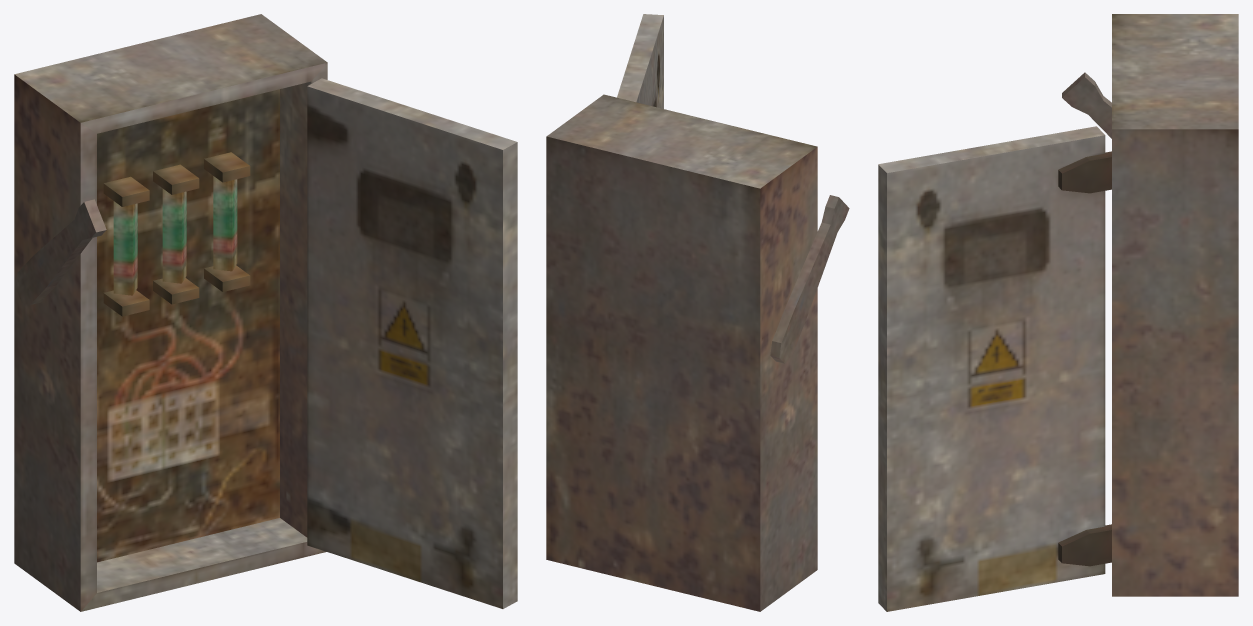
File: fusebox.fbx
3 views of the same model, side by side, from view 1: azimuth 30°, elevation 25°; view 2: azimuth 150°, elevation 25°; view 3: azimuth 270°, elevation 25° (orthographic). The views are drawn at different scales.
Visible parts, largest first — view 1: Fuse_box_Top, Fuse_box_M, Fuse.002, Fuse.001, Fuse; view 2: Fuse_box_Top, Fuse_box_M; view 3: Fuse_box_Top, Fuse_box_M.
Part boxes in pixels (left/top/right/bottom): Fuse_box_Top: left=14, top=14, right=517, bottom=611; Fuse_box_M: left=15, top=199, right=106, bottom=304; Fuse.002: left=213, top=176, right=237, bottom=271; Fuse.001: left=162, top=188, right=186, bottom=283; Fuse: left=113, top=201, right=137, bottom=295; Fuse_box_Top: left=546, top=14, right=817, bottom=611; Fuse_box_M: left=770, top=195, right=849, bottom=363; Fuse_box_Top: left=878, top=14, right=1238, bottom=611; Fuse_box_M: left=1062, top=72, right=1111, bottom=138.
Size of the model in its own units: 55.55 by 78.71 by 55.04.
